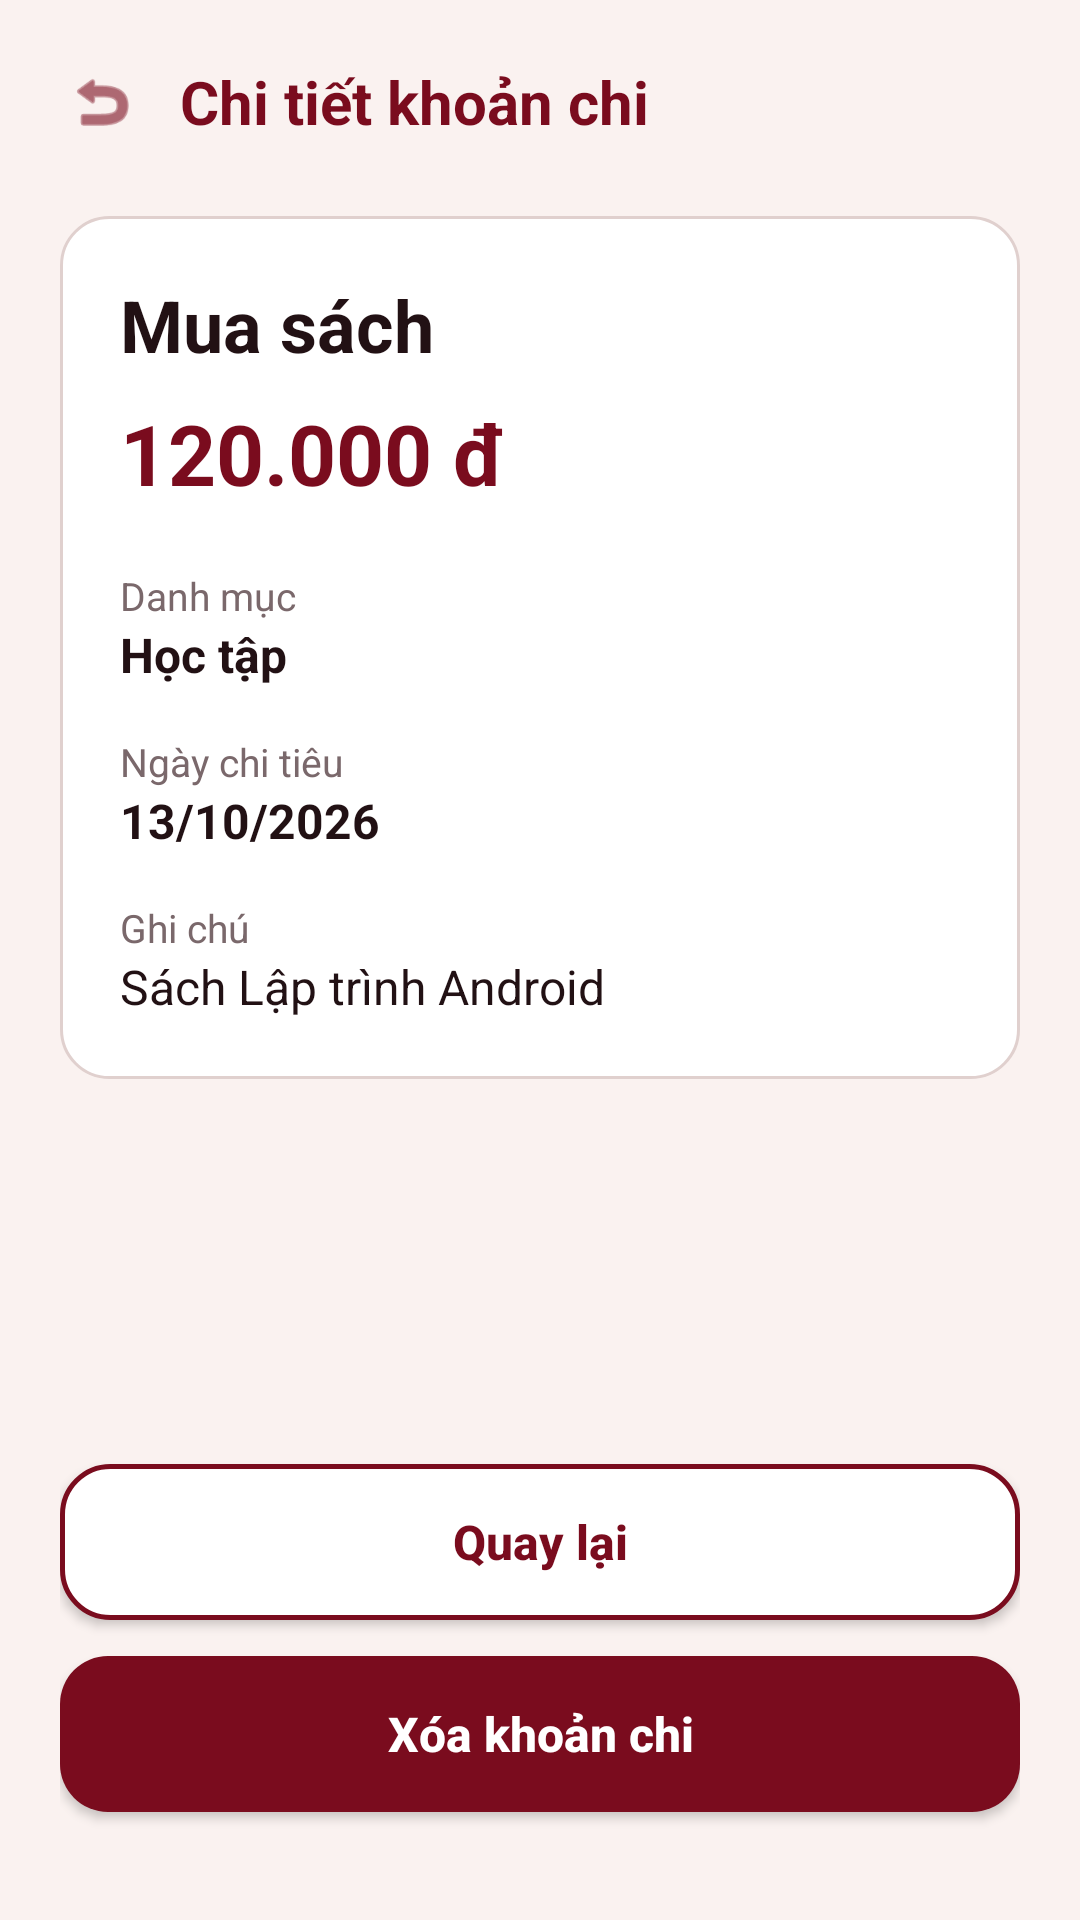

Icon click points for this 1080 x 1920 phone screenshot, format (x,y):
Quay lại: (103,102)
